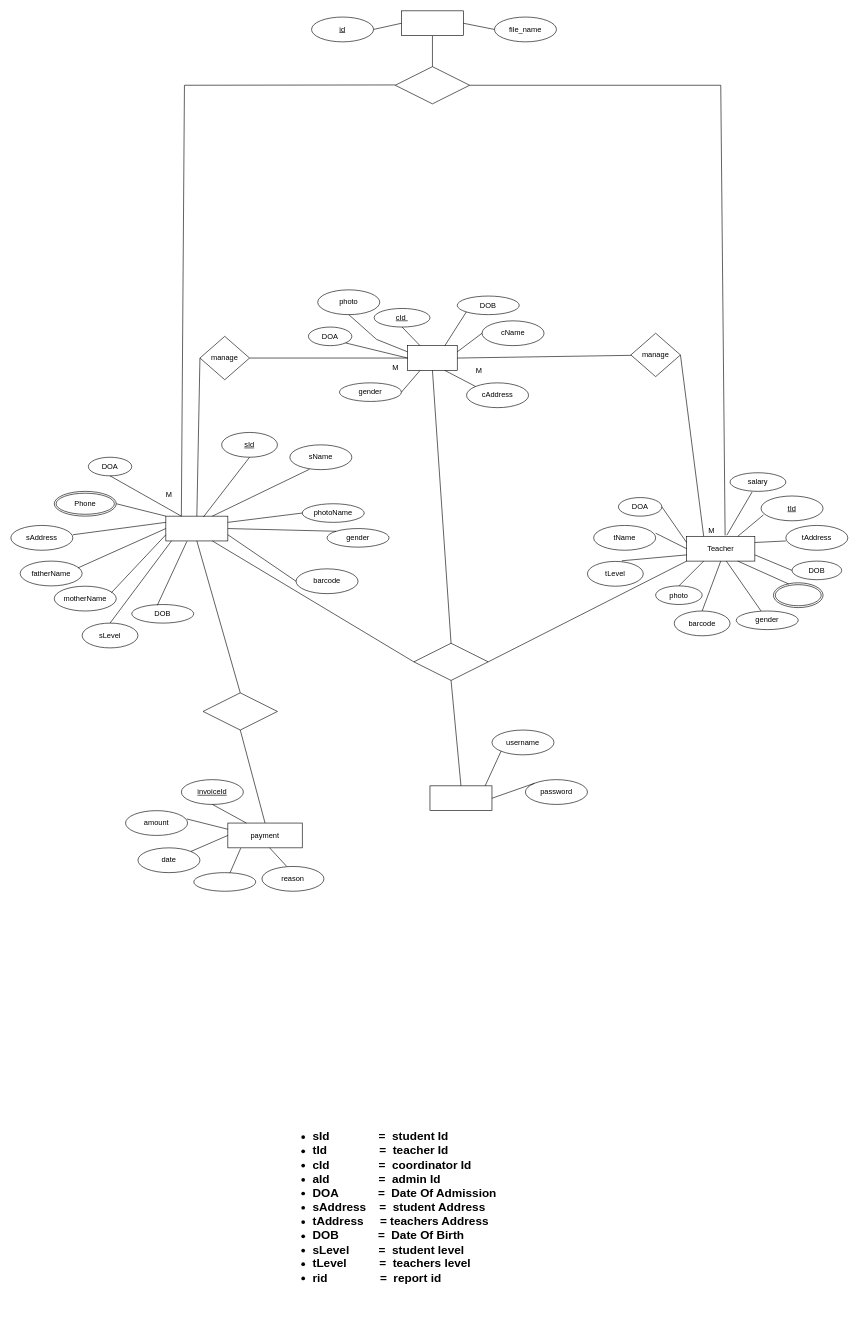
The diagram is 859 pixels wide and 1336 high, and some of its shapes have lost their labels. Each missing label, with the centre of its shape:
"Coordinator" belongs at point 432,357.
"file" belongs at point 432,23.
"has" belongs at point 450,661.
"login" belongs at point 460,798.
"make" belongs at point 239,711.
"Student" belongs at point 196,528.
"time" belongs at point 224,881.
"tPhone" belongs at point 798,595.
"upload/download" belongs at point 432,85.
